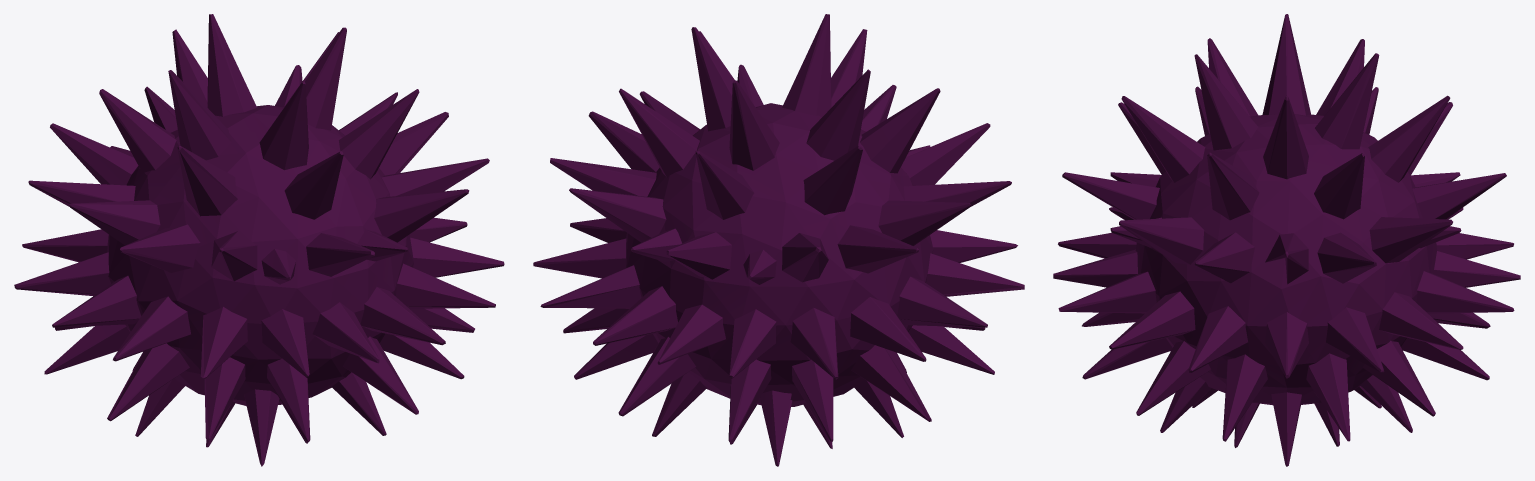
Rendered from SeaUrchin_Static_Unity.fbx.
The picture shows the model from 3 angles, left to right: view 1: azimuth 30°, elevation 25°; view 2: azimuth 150°, elevation 25°; view 3: azimuth 270°, elevation 25°; orthographic projection. The views are drawn at different scales.
Parts seen in each view (by area): view 1: SeaUrchin; view 2: SeaUrchin; view 3: SeaUrchin.
Part boxes in pixels (bbox=[...]): SeaUrchin: bbox=[14, 14, 504, 466]; SeaUrchin: bbox=[533, 14, 1024, 466]; SeaUrchin: bbox=[1053, 14, 1520, 466].
Bounding box in the file's own units: 0.8 × 0.6719 × 0.8.
